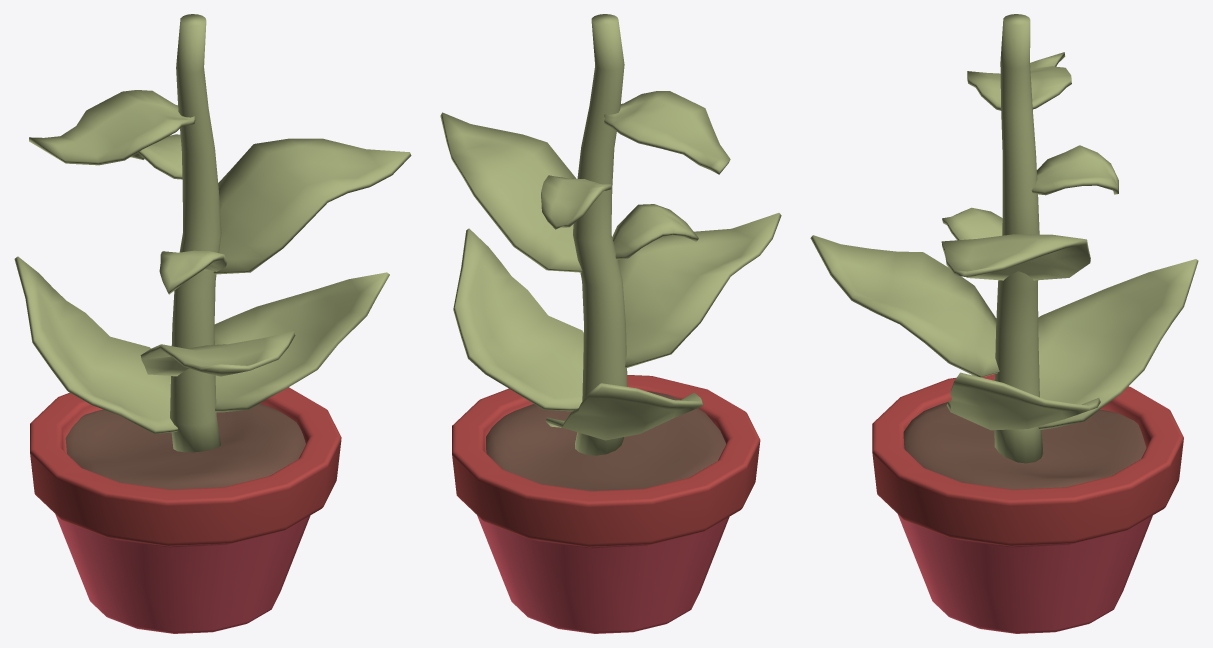
The model's file is Pflanze.fbx.
3 views of the same model, side by side, from view 1: azimuth 30°, elevation 25°; view 2: azimuth 150°, elevation 25°; view 3: azimuth 270°, elevation 25° (orthographic).
Visible parts, largest first — view 1: Pflanze; view 2: Pflanze; view 3: Pflanze.
Part boxes in pixels (left/top/right/bottom): Pflanze: left=14, top=14, right=411, bottom=633; Pflanze: left=440, top=14, right=781, bottom=633; Pflanze: left=810, top=14, right=1198, bottom=633.
Size of the model in its own units: 78.65 by 131 by 79.51.
